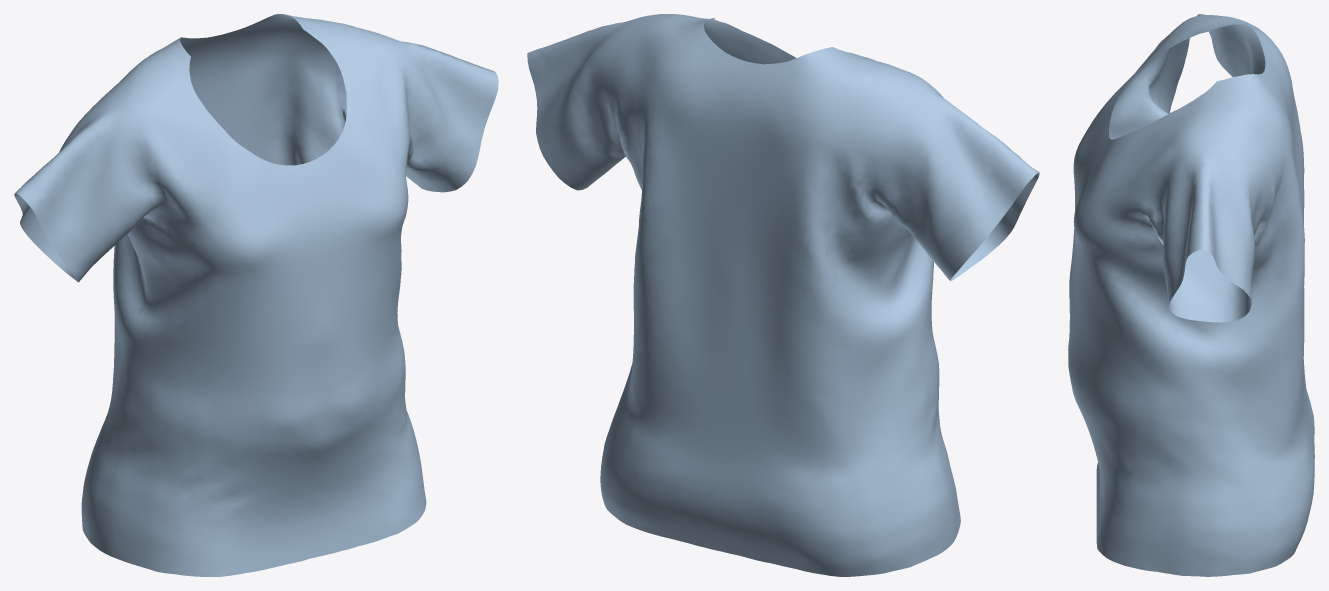
Rendered from tee_XL.glb.
The picture shows the model from 3 angles, left to right: view 1: azimuth 30°, elevation 25°; view 2: azimuth 150°, elevation 25°; view 3: azimuth 270°, elevation 25°; orthographic projection. The views are drawn at different scales.
Parts seen in each view (by area): view 1: geometry_0; view 2: geometry_0; view 3: geometry_0.
Boxes of the visible parts, <box> form: geometry_0: <box>14,14,498,576</box>; geometry_0: <box>527,14,1039,576</box>; geometry_0: <box>1068,14,1314,576</box>.
Bounding box in the file's own units: 0.6706 × 0.6321 × 0.3069.
